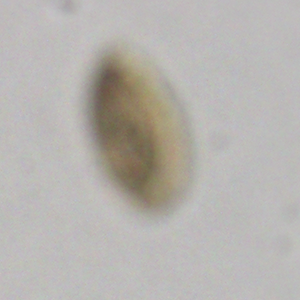Fasciola_hepatica_egg: (90, 35, 197, 215)
